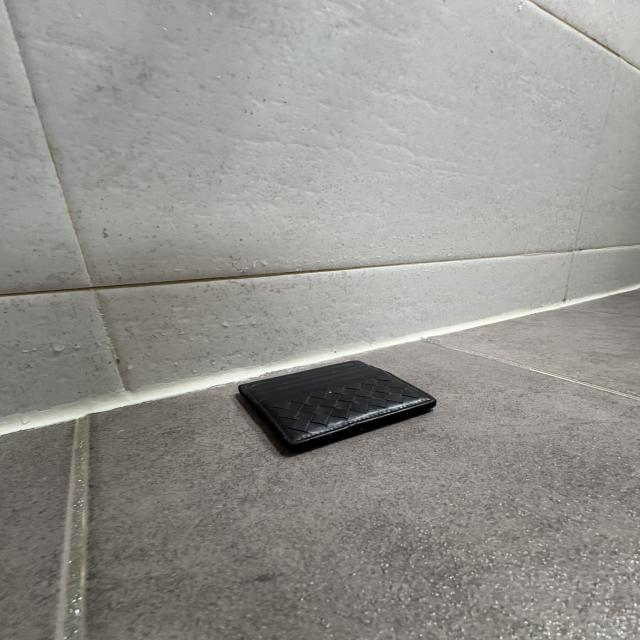wallet: (234, 360, 437, 460)
